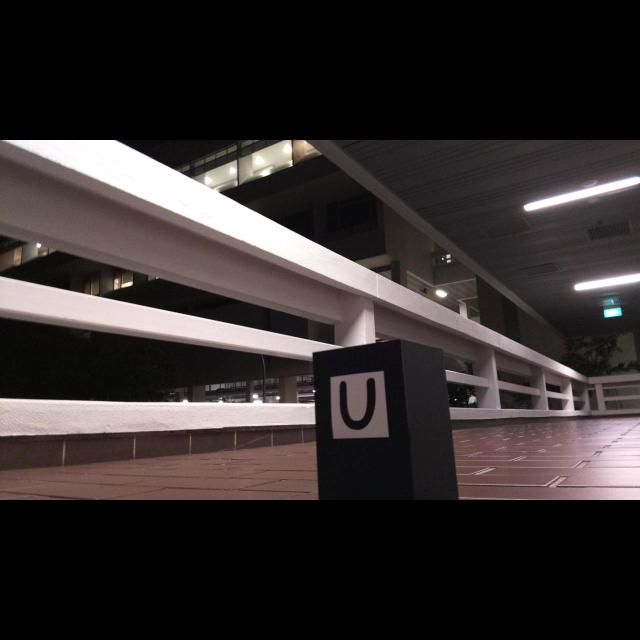U: (339, 377, 376, 431)
